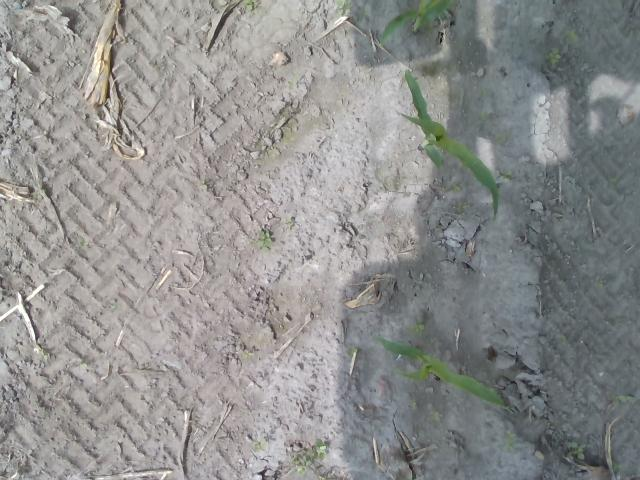Maize: (398, 66, 504, 225), (374, 332, 512, 412), (373, 0, 457, 47)
Weeds: (294, 444, 328, 477), (255, 228, 272, 254), (571, 442, 585, 461), (335, 0, 354, 13), (506, 432, 518, 452), (548, 48, 562, 64), (251, 437, 265, 451), (242, 0, 258, 12), (410, 322, 426, 334), (616, 393, 635, 402), (242, 348, 255, 360), (499, 172, 512, 182), (494, 132, 506, 142), (430, 410, 441, 420), (452, 182, 461, 192), (408, 400, 417, 407)
